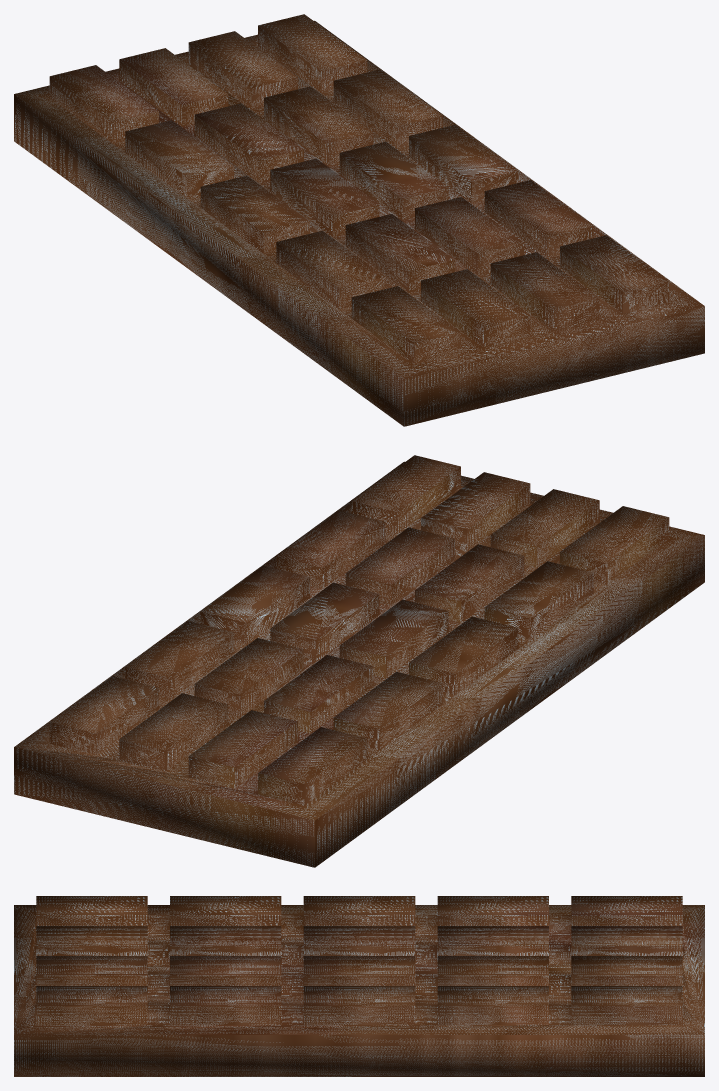
Rendered from choco 1.dae.
The picture shows the model from 3 angles, top to bottom: view 1: azimuth 30°, elevation 25°; view 2: azimuth 150°, elevation 25°; view 3: azimuth 270°, elevation 25°; orthographic projection. The views are drawn at different scales.
Parts seen in each view (by area): view 1: Group_1 (×21); view 2: Group_1 (×21); view 3: Group_1 (×21).
Part boxes in pixels (<box>): Group_1 (×21): <box>14,14,704,426</box>; Group_1 (×21): <box>14,455,704,867</box>; Group_1 (×21): <box>14,896,704,1076</box>.
Size of the model in its own units: 139 by 312 by 30.31.
Materials: 2 (1 with a texture image).
